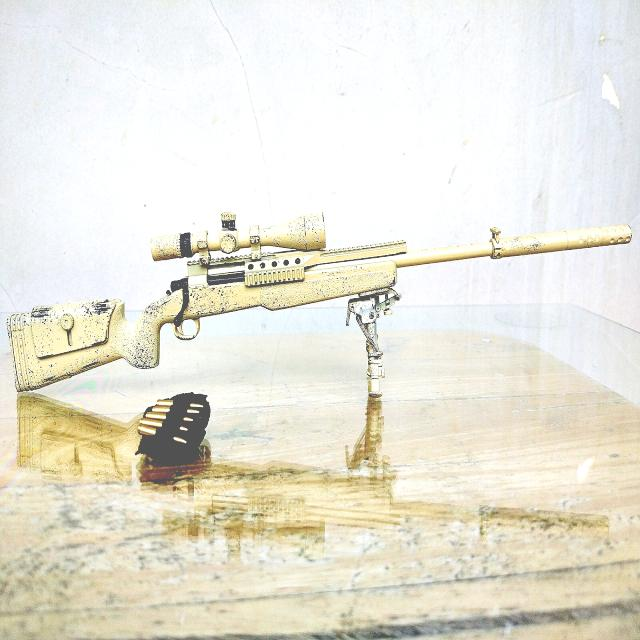rifle: (6, 199, 638, 417)
